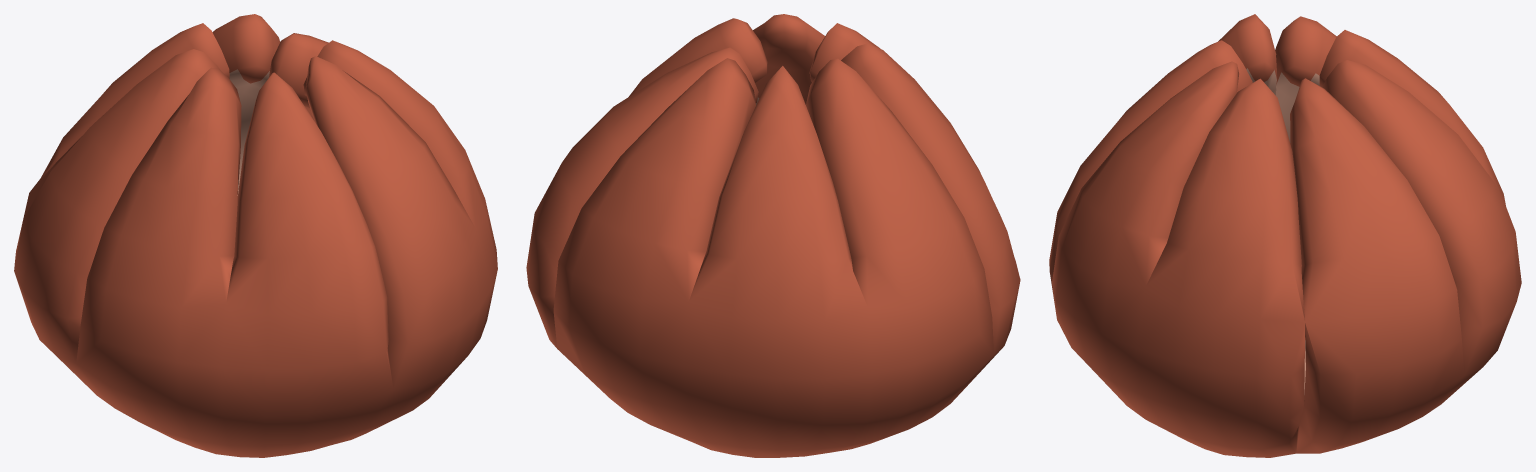
Rendered from Clover_A_02.fbx.
The picture shows the model from 3 angles, left to right: view 1: azimuth 30°, elevation 25°; view 2: azimuth 150°, elevation 25°; view 3: azimuth 270°, elevation 25°; orthographic projection. The views are drawn at different scales.
Parts seen in each view (by area): view 1: Clover_A_02_LOD0; view 2: Clover_A_02_LOD0; view 3: Clover_A_02_LOD0.
Part boxes in pixels (left/top/right/bottom): Clover_A_02_LOD0: left=14, top=14, right=497, bottom=457; Clover_A_02_LOD0: left=526, top=14, right=1020, bottom=457; Clover_A_02_LOD0: left=1049, top=14, right=1521, bottom=457.
Size of what is drawn, in the model's own units: 429 by 376 by 426.
